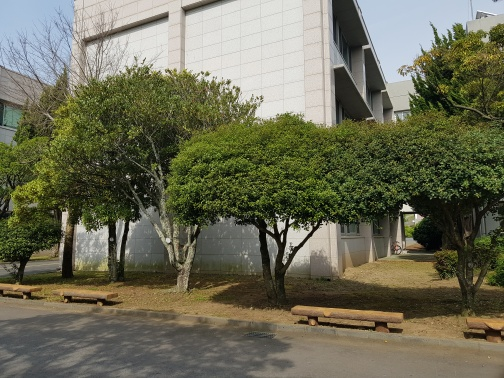College of Nursing: (66, 5, 407, 264)
